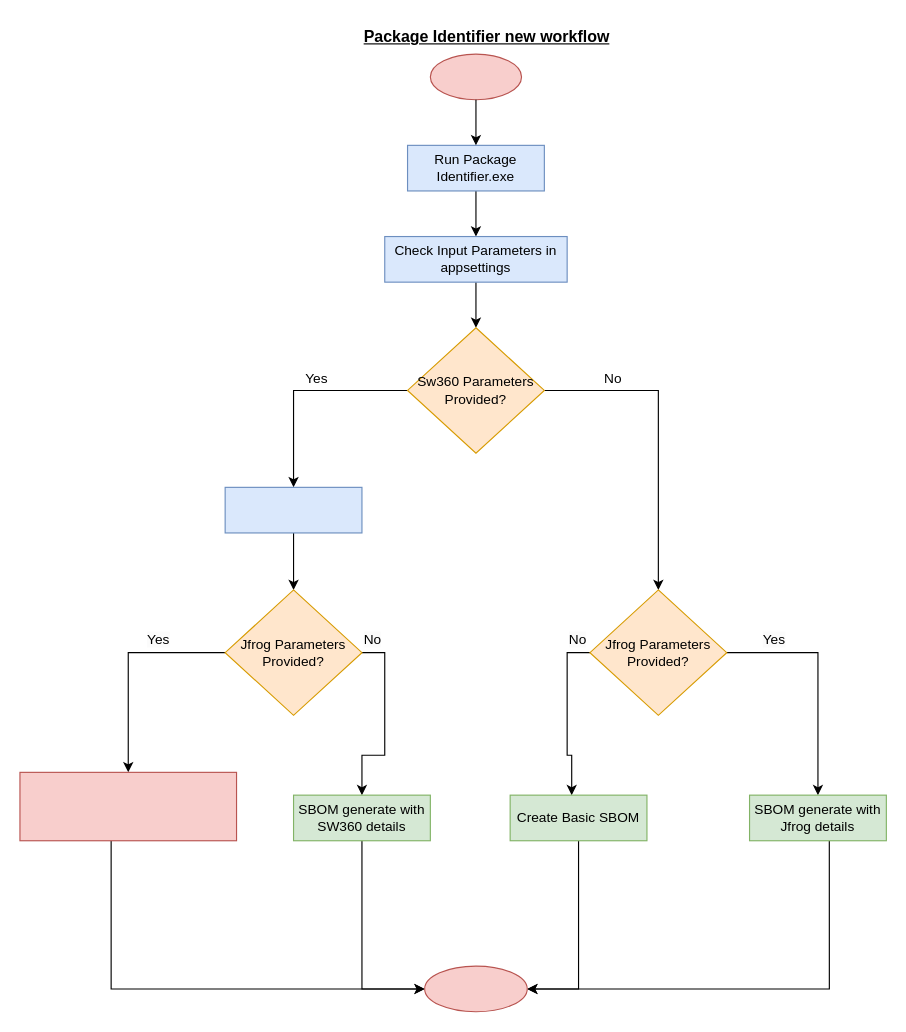
This 906x1032 diagram has some shape labels left out. Here are the shapes that lost their labels. From the top down, the centre of each, then its label:
At (x=475, y=76): "Start".
At (x=293, y=509): "Validate SW360 Parameters".
At (x=128, y=806): "SBOM generate with additional metadata and other details".
At (x=475, y=988): "End".
